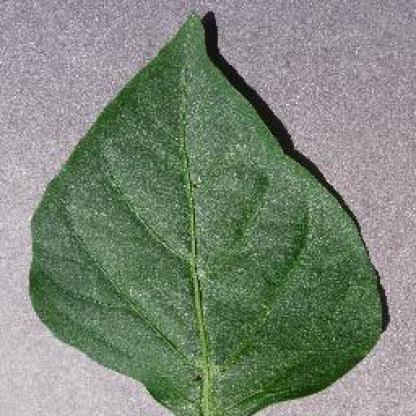good leaf: (40, 18, 373, 355)
